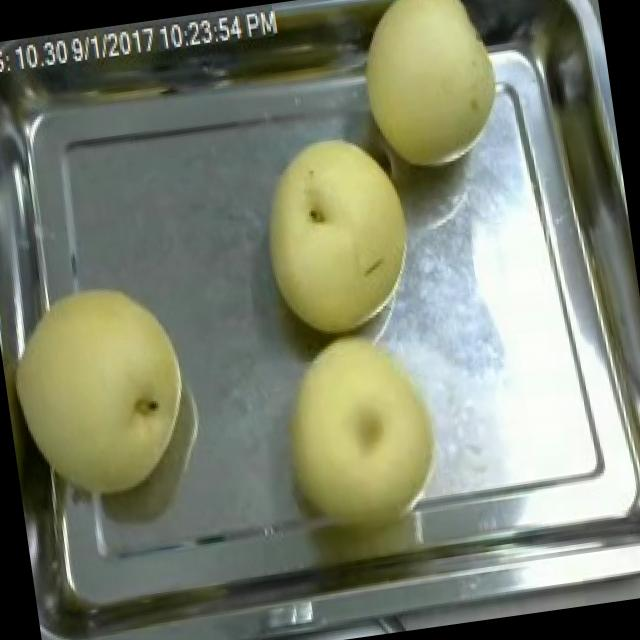Fruit: (0, 262, 212, 514), (260, 314, 459, 540), (242, 118, 432, 350), (341, 0, 522, 185)
